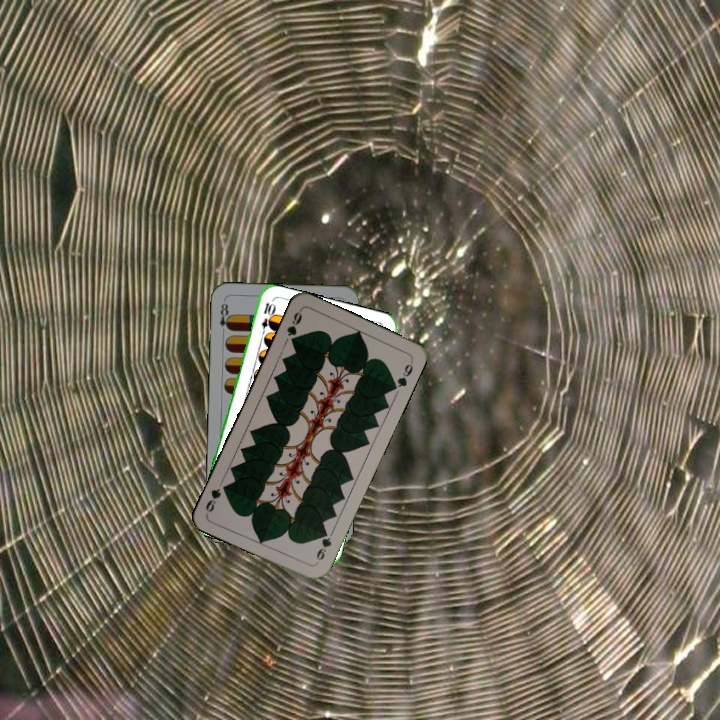E10: (257, 299, 276, 339)
E8: (216, 297, 233, 332)
G9: (283, 306, 304, 347), (312, 527, 334, 563)
